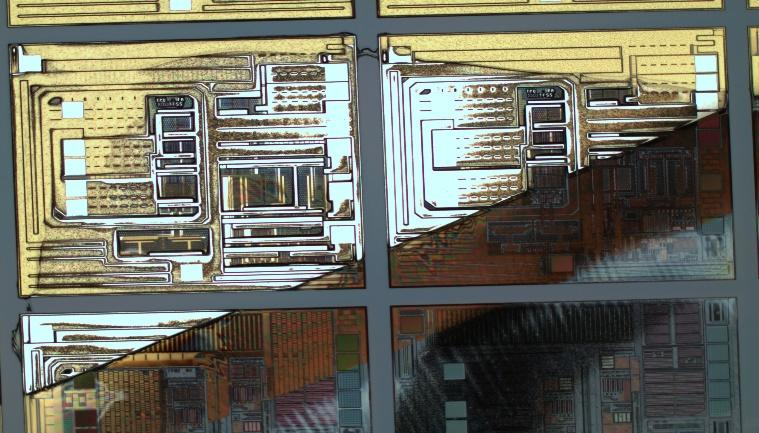COATING BAD: (13, 35, 759, 433)
